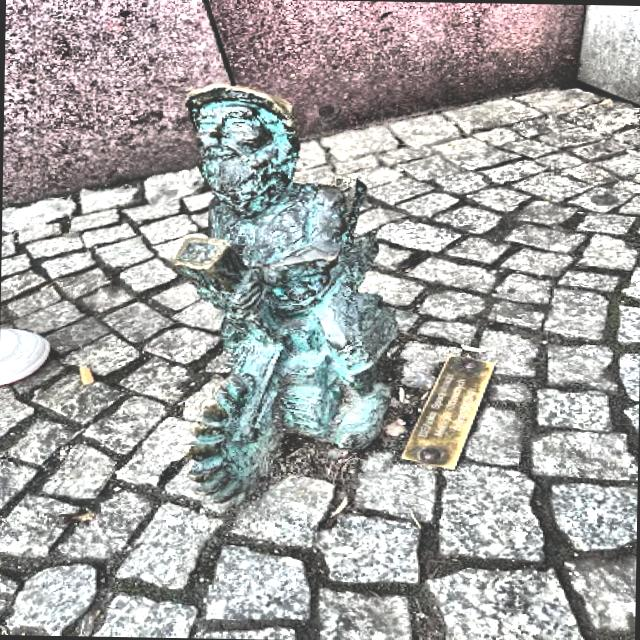Automatek: (173, 84, 396, 501)
